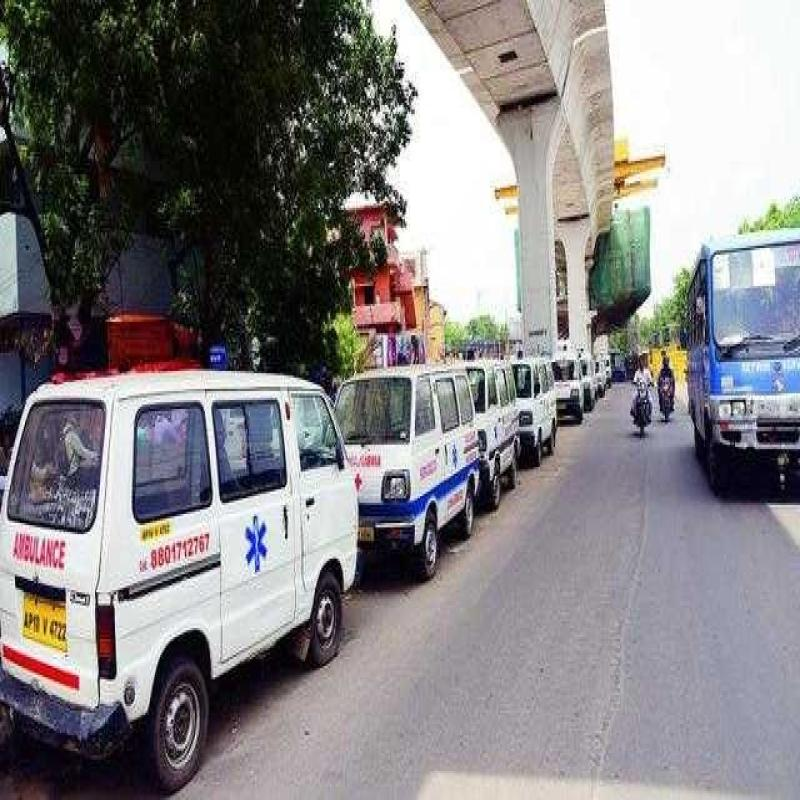AmbulanceSiren: (205, 334, 231, 385)
